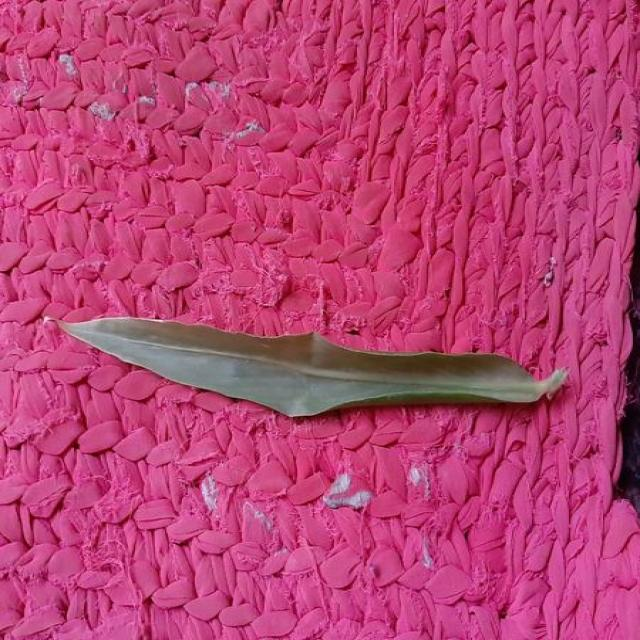bacterial wilt: (60, 318, 567, 417)
ginger: (60, 318, 567, 417)
